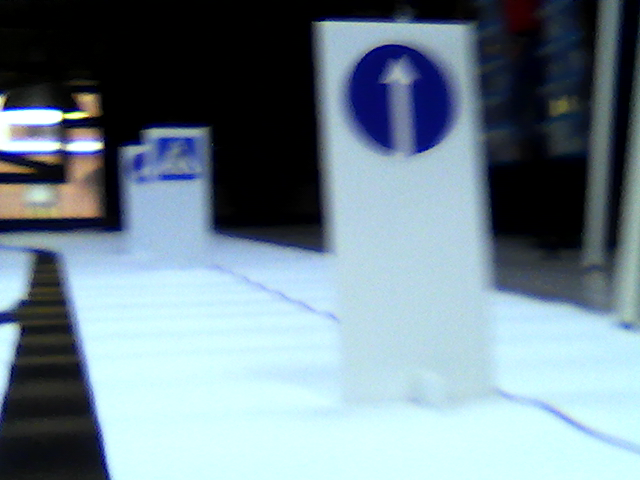forw: (347, 39, 458, 161)
pesh: (155, 135, 201, 179)
